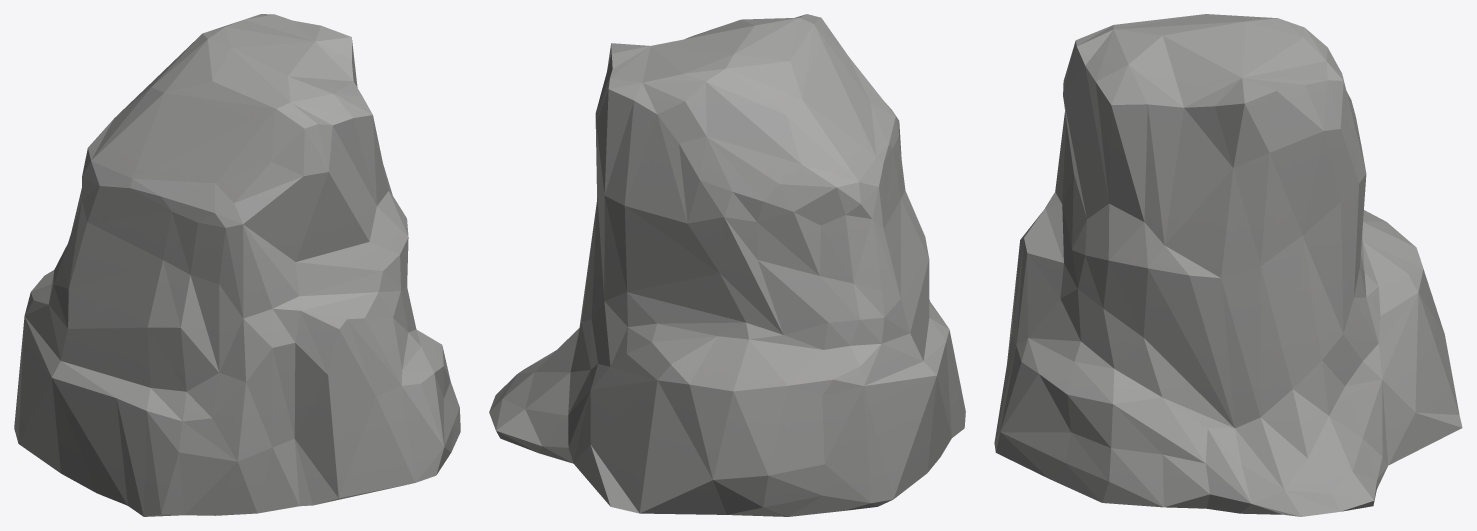
Rendered from Cavern_Boulder-01.fbx.
3 renders of one model, left to right at view 1: azimuth 30°, elevation 25°; view 2: azimuth 150°, elevation 25°; view 3: azimuth 270°, elevation 25°, orthographic. The views are drawn at different scales.
Visible parts, largest first — view 1: Cavern_Boulder-01; view 2: Cavern_Boulder-01; view 3: Cavern_Boulder-01.
Part boxes in pixels (x1=…): Cavern_Boulder-01: x1=14, y1=14, x2=460, y2=516; Cavern_Boulder-01: x1=489, y1=14, x2=965, y2=516; Cavern_Boulder-01: x1=994, y1=14, x2=1462, y2=516.
Bounding box in the file's own units: 854 × 791 × 822.
1 material, 1 textured.
